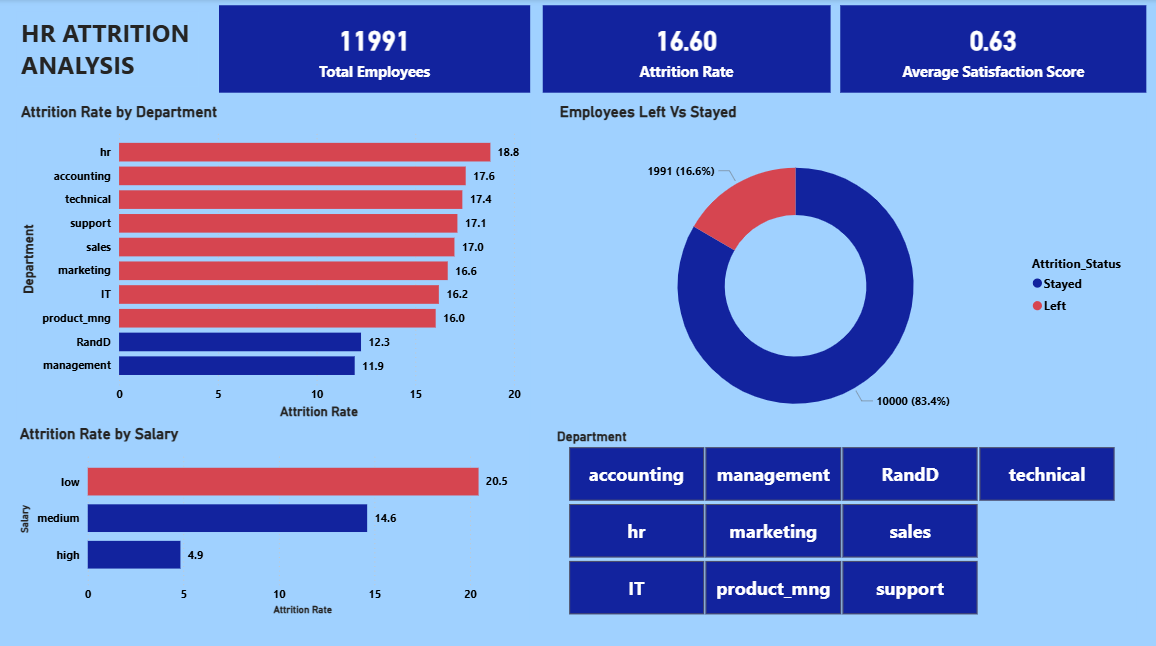

Layout of this report page (visuals, bound fields, positions):
{"tool":"powerbi","page":{"name":"Page 1","canvas":[1280,720],"ordinal":0},"visuals":[{"type":"card","fields":{"Values":["HR_Attrition.Total Employees"]},"box":[247,6.9,341.7,96.1],"z":0},{"type":"card","fields":{"Values":["Avg(HR_Attrition.Satisfaction_Level)"]},"box":[929,6.9,336.2,96.1],"z":1000},{"type":"card","fields":{"Values":["HR_Attrition.Attrition Rate"]},"box":[602.4,6.9,315.6,96.1],"z":2000},{"type":"clusteredBarChart","fields":{"Y":["HR_Attrition.Attrition Rate"],"Category":["HR_Attrition.Department"]},"box":[24.7,113.9,564,352.7],"z":3000},{"type":"textbox","box":[24.7,13.7,200.3,82.3],"z":4000},{"type":"donutChart","title":"Employees Left Vs Stayed","fields":{"Category":["HR_Attrition.Attrition_Status"],"Y":["HR_Attrition.Total Employees"]},"box":[616.1,113.9,649.1,381.5],"z":5000},{"type":"clusteredBarChart","fields":{"Y":["HR_Attrition.Attrition Rate"],"Category":["HR_Attrition.Salary"]},"box":[24.7,480.3,564,240.1],"z":6000},{"type":"slicer","fields":{"Values":["HR_Attrition.Department"]},"box":[617.5,505,649.1,215.4],"z":7000}]}

Visuals, with their boxes in screenshot pixels (x1, y1, x2, y2), scaled from the page's 1280x720 canvas onto the 1156x646 screenshot:
card - HR_Attrition.Total Employees: {"x1": 223, "y1": 6, "x2": 532, "y2": 92}
card - Avg(HR_Attrition.Satisfaction_Level): {"x1": 839, "y1": 6, "x2": 1143, "y2": 92}
card - HR_Attrition.Attrition Rate: {"x1": 544, "y1": 6, "x2": 829, "y2": 92}
clusteredBarChart - HR_Attrition.Attrition Rate x HR_Attrition.Department: {"x1": 22, "y1": 102, "x2": 532, "y2": 419}
textbox: {"x1": 22, "y1": 12, "x2": 203, "y2": 86}
"Employees Left Vs Stayed" donutChart: {"x1": 556, "y1": 102, "x2": 1143, "y2": 444}
clusteredBarChart - HR_Attrition.Attrition Rate x HR_Attrition.Salary: {"x1": 22, "y1": 431, "x2": 532, "y2": 645}
slicer - HR_Attrition.Department: {"x1": 558, "y1": 453, "x2": 1144, "y2": 645}
